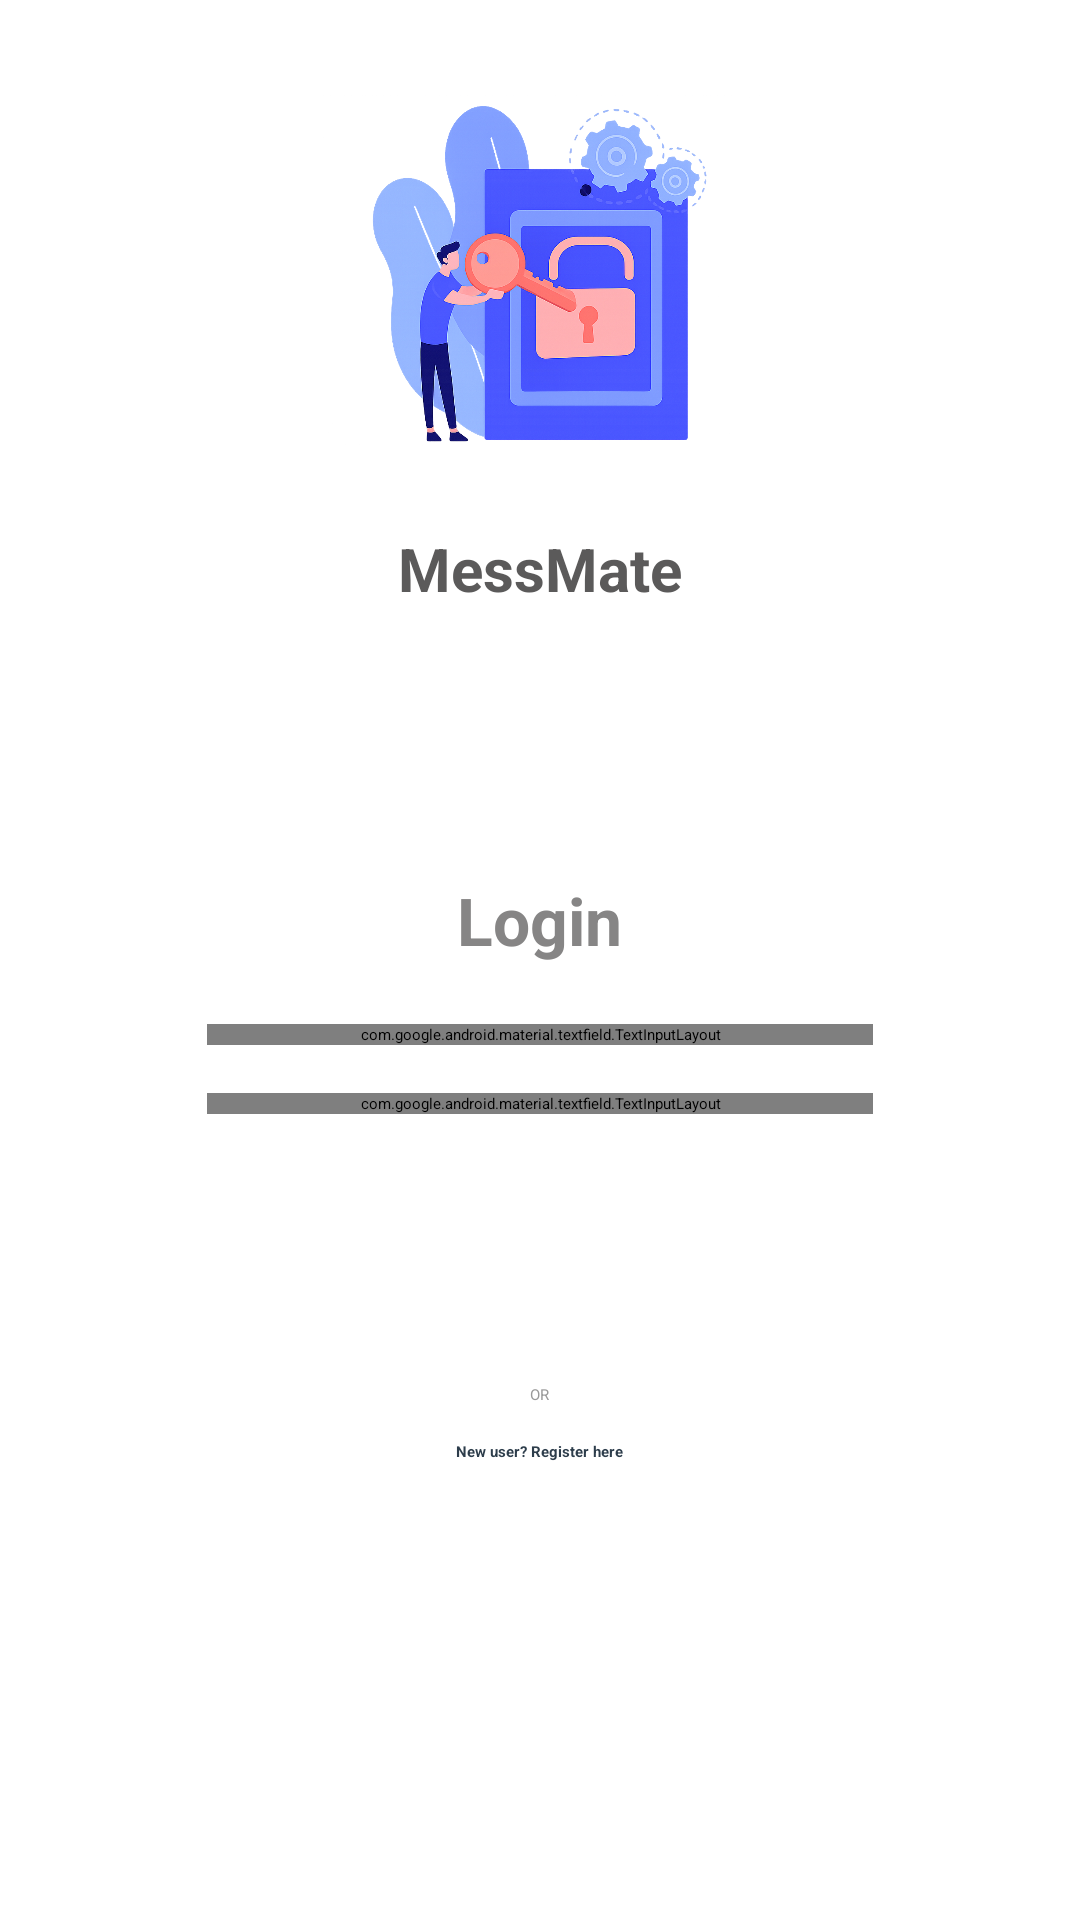

Icons on this 1080px x 1920px Android screen, each with the point to tap as [x,y]:
illustration login: [540,274]
